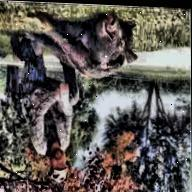boar: (47, 4, 149, 89)
